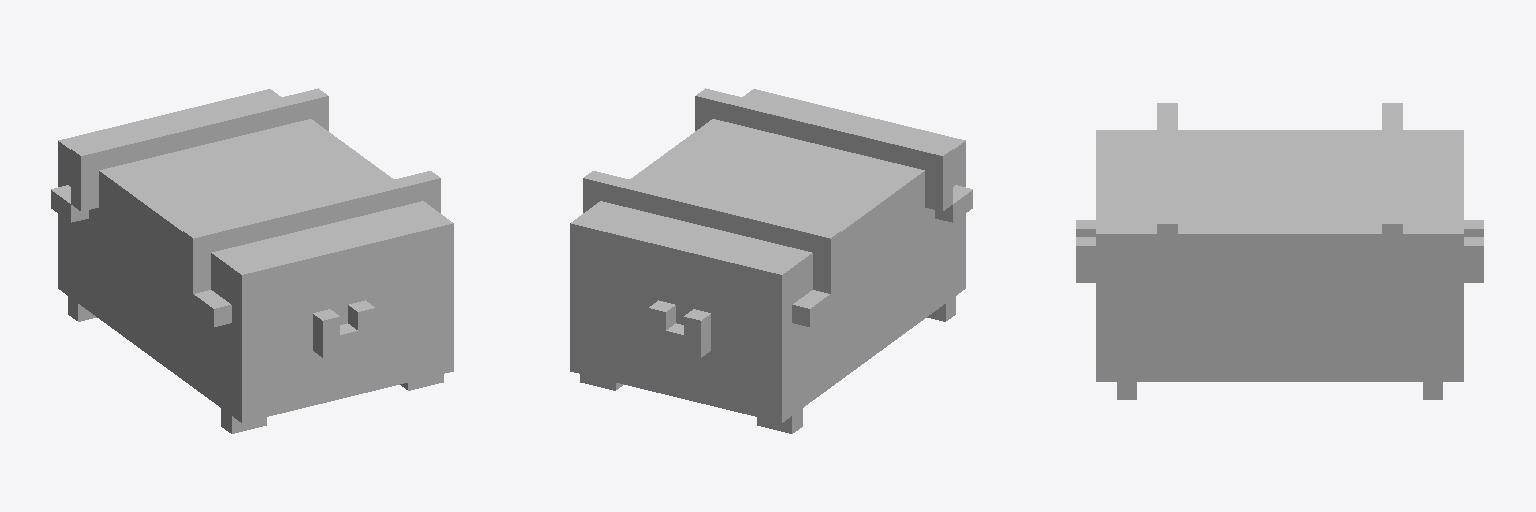
Rendered from Package 01 Necro Dungeon-0.obj.
The picture shows the model from 3 angles: view 1: azimuth 30°, elevation 25°; view 2: azimuth 150°, elevation 25°; view 3: azimuth 270°, elevation 25°; orthographic projection.
Parts seen in each view (by area): view 1: object 1; view 2: object 1; view 3: object 1.
Boxes of the visible parts, x1,y1,x2,y2 form: object 1: [51, 88, 453, 433]; object 1: [570, 88, 972, 433]; object 1: [1076, 103, 1483, 399].
Bounding box in the file's own units: 1.4 × 1 × 2.